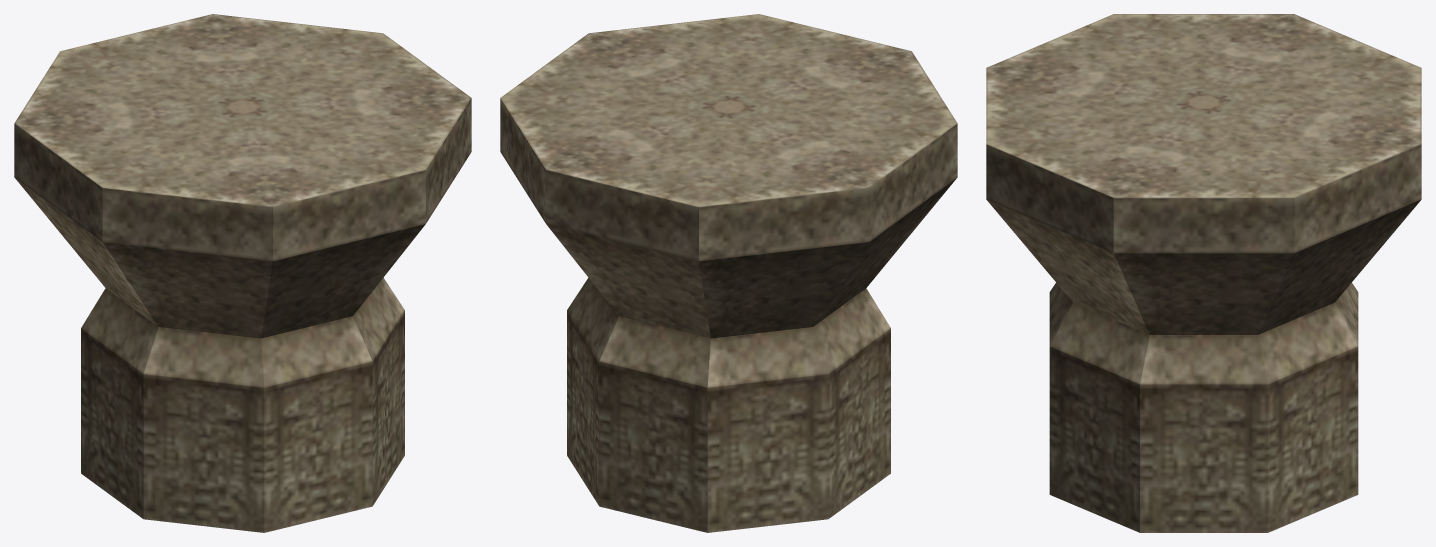
File: general_obj_bigtoewr11.glb
3 views of the same model, side by side, from view 1: azimuth 30°, elevation 25°; view 2: azimuth 150°, elevation 25°; view 3: azimuth 270°, elevation 25° (orthographic). The views are drawn at different scales.
Parts seen in each view (by area): view 1: Sphere01; view 2: Sphere01; view 3: Sphere01.
Part boxes in pixels (x1=…): Sphere01: x1=14, y1=14, x2=471, y2=532; Sphere01: x1=500, y1=14, x2=957, y2=532; Sphere01: x1=986, y1=14, x2=1421, y2=532.
Bounding box in the file's own units: 4.31 × 4 × 4.31.
1 material, 1 textured.
